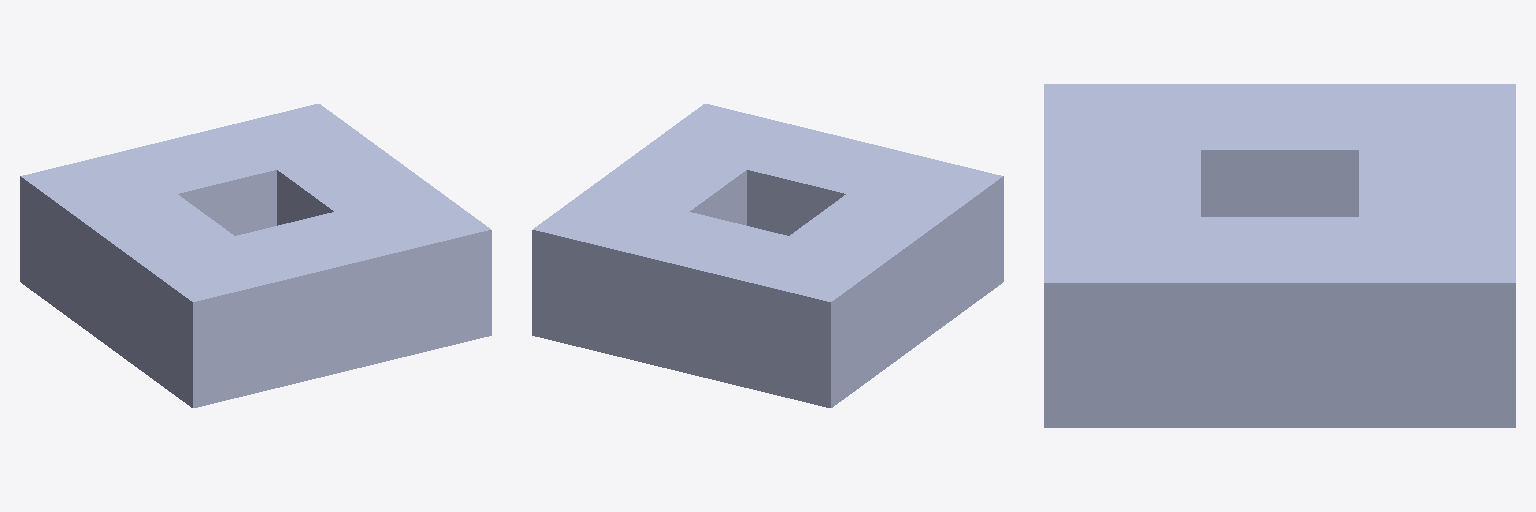
The robot description file, URDF, robot "hole.SLDPRT":
<?xml version="1.0" encoding="utf-8"?>
<!-- This URDF was automatically created by SolidWorks to URDF Exporter! Originally created by [author] ([email redacted]) 
     Commit Version: 1.5.1-0-g916b5db  Build Version: 1.5.7152.31018
     For more information, please see http://wiki.ros.org/sw_urdf_exporter -->
<robot
  name="hole.SLDPRT">
  <link
    name="hole1">
    <inertial>
      <origin
        xyz="-0.051 0.051 0.0"
        rpy="0 0 0" />
      <mass
        value="5.0" />
      <inertia
        ixx="0.003"
        ixy="0.0"
        ixz="0.0"
        iyy="0.003"
        iyz="0.0"
        izz="0.003" />
    </inertial>
    <visual>
      <origin
        xyz="-0.051 0.051 0"
        rpy="0 0 0" />
      <geometry>
        <box 
	  size="0.051 0.051 0.052" />
      </geometry>
      <material
        name="stainless">
        <color
          rgba="0.79216 0.81961 0.93333 1" />
      </material>
    </visual>
    <collision>
      <origin
        xyz="-0.051 0.051 0"
        rpy="0 0 0" />
      <geometry>
        <box 
	  size="0.051 0.051 0.052" />
      </geometry>
    </collision>
  <gazebo>
    <static>true</static>
  </gazebo>

  </link>
  
  <joint name="joint1" type="fixed">
    <origin xyz="0.0 0.0 0.0" rpy="0 0 0"/>
    <parent link="hole1"/>
    <child link="hole2"/>
  </joint>

  <link
    name="hole2">
    <inertial>
      <origin
        xyz="0.0 0.051 0.0"
        rpy="0 0 0" />
      <mass
        value="5.0" />
      <inertia
        ixx="0.003"
        ixy="0.0"
        ixz="0.0"
        iyy="0.003"
        iyz="0.0"
        izz="0.003" />
    </inertial>
    <visual>
      <origin
        xyz="0.0 0.051 0"
        rpy="0 0 0" />
      <geometry>
        <box 
	  size="0.051 0.051 0.052" />
      </geometry>
      <material
        name="stainless">
        <color
          rgba="0.79216 0.81961 0.93333 1" />
      </material>
    </visual>
    <collision>
      <origin
        xyz="0.0 0.051 0"
        rpy="0 0 0" />
      <geometry>
        <box 
	  size="0.051 0.051 0.052" />
      </geometry>
    </collision>
  <gazebo>
    <static>true</static>
  </gazebo>
  </link>

  <joint name="joint2" type="fixed">
    <origin xyz="0.0 0.0 0.0" rpy="0 0 0"/>
    <parent link="hole2"/>
    <child link="hole3"/>
  </joint>

  <link
    name="hole3">
    <inertial>
      <origin
        xyz="0.051 0.051 0.0"
        rpy="0 0 0" />
      <mass
        value="5.0" />
      <inertia
        ixx="0.003"
        ixy="0.0"
        ixz="0.0"
        iyy="0.003"
        iyz="0.0"
        izz="0.003" />
    </inertial>
    <visual>
      <origin
        xyz="0.051 0.051 0"
        rpy="0 0 0" />
      <geometry>
        <box 
	  size="0.051 0.051 0.052" />
      </geometry>
      <material
        name="stainless">
        <color
          rgba="0.79216 0.81961 0.93333 1" />
      </material>
    </visual>
    <collision>
      <origin
        xyz="0.051 0.051 0"
        rpy="0 0 0" />
      <geometry>
        <box 
	  size="0.051 0.051 0.052" />
      </geometry>
    </collision>
  <gazebo>
    <static>true</static>
  </gazebo>
  </link>

  <joint name="joint3" type="fixed">
    <origin xyz="0.0 0.0 0.0" rpy="0 0 0"/>
    <parent link="hole3"/>
    <child link="hole4"/>
  </joint>

  <link
    name="hole4">
    <inertial>
      <origin
        xyz="0.051 0.0 0.0"
        rpy="0 0 0" />
      <mass
        value="5.0" />
      <inertia
        ixx="0.003"
        ixy="0.0"
        ixz="0.0"
        iyy="0.003"
        iyz="0.0"
        izz="0.003" />
    </inertial>
    <visual>
      <origin
        xyz="0.051 0.0 0"
        rpy="0 0 0" />
      <geometry>
        <box 
	  size="0.051 0.051 0.052" />
      </geometry>
      <material
        name="stainless">
        <color
          rgba="0.79216 0.81961 0.93333 1" />
      </material>
    </visual>
    <collision>
      <origin
        xyz="0.051 0.0 0"
        rpy="0 0 0" />
      <geometry>
        <box 
	  size="0.051 0.051 0.052" />
      </geometry>
    </collision>
  <gazebo>
    <static>true</static>
  </gazebo>
  </link>

  <joint name="joint4" type="fixed">
    <origin xyz="0.0 0.0 0.0" rpy="0 0 0"/>
    <parent link="hole4"/>
    <child link="hole5"/>
  </joint>

  <link
    name="hole5">
    <inertial>
      <origin
        xyz="0.051 -0.051 0.0"
        rpy="0 0 0" />
      <mass
        value="5.0" />
      <inertia
        ixx="0.003"
        ixy="0.0"
        ixz="0.0"
        iyy="0.003"
        iyz="0.0"
        izz="0.003" />
    </inertial>
    <visual>
      <origin
        xyz="0.051 -0.051 0"
        rpy="0 0 0" />
      <geometry>
        <box 
	  size="0.051 0.051 0.052" />
      </geometry>
      <material
        name="stainless">
        <color
          rgba="0.79216 0.81961 0.93333 1" />
      </material>
    </visual>
    <collision>
      <origin
        xyz="0.051 -0.051 0"
        rpy="0 0 0" />
      <geometry>
        <box 
	  size="0.051 0.051 0.052" />
      </geometry>
    </collision>
  <gazebo>
    <static>true</static>
  </gazebo>
  </link>
  <joint name="joint5" type="fixed">
    <origin xyz="0.0  0.0 0.0" rpy="0 0 0"/>
    <parent link="hole5"/>
    <child link="hole6"/>
  </joint>

  <link
    name="hole6">
    <inertial>
      <origin
        xyz="0.0 -0.051 0.0"
        rpy="0 0 0" />
      <mass
        value="5.0" />
      <inertia
        ixx="0.003"
        ixy="0.0"
        ixz="0.0"
        iyy="0.003"
        iyz="0.0"
        izz="0.003" />
    </inertial>
    <visual>
      <origin
        xyz="0.0 -0.051 0"
        rpy="0 0 0" />
      <geometry>
        <box 
	  size="0.051 0.051 0.052" />
      </geometry>
      <material
        name="stainless">
        <color
          rgba="0.79216 0.81961 0.93333 1" />
      </material>
    </visual>
    <collision>
      <origin
        xyz="0.0 -0.051 0"
        rpy="0 0 0" />
      <geometry>
        <box 
	  size="0.051 0.051 0.052" />
      </geometry>
    </collision>
  <gazebo>
    <static>true</static>
  </gazebo>
  </link>

  <joint name="joint6" type="fixed">
    <origin xyz="0.0  0.0 0.0" rpy="0 0 0"/>
    <parent link="hole6"/>
    <child link="hole7"/>
  </joint>

  <link
    name="hole7">
    <inertial>
      <origin
        xyz="-0.051 -0.051 0.0"
        rpy="0 0 0" />
      <mass
        value="5.0" />
      <inertia
        ixx="0.003"
        ixy="0.0"
        ixz="0.0"
        iyy="0.003"
        iyz="0.0"
        izz="0.003" />
    </inertial>
    <visual>
      <origin
        xyz="-0.051 -0.051 0"
        rpy="0 0 0" />
      <geometry>
        <box 
	  size="0.051 0.051 0.052" />
      </geometry>
      <material
        name="stainless">
        <color
          rgba="0.79216 0.81961 0.93333 1" />
      </material>
    </visual>
    <collision>
      <origin
        xyz="-0.051 -0.051 0"
        rpy="0 0 0" />
      <geometry>
        <box 
	  size="0.051 0.051 0.052" />
      </geometry>
    </collision>
  <gazebo>
    <static>true</static>
  </gazebo>
  </link>

  <joint name="joint7" type="fixed">
    <origin xyz="0.0  0.0 0.0" rpy="0 0 0"/>
    <parent link="hole7"/>
    <child link="hole8"/>
  </joint>

  <link
    name="hole8">
    <inertial>
      <origin
        xyz="-0.051 0.0 0.0"
        rpy="0 0 0" />
      <mass
        value="5.0" />
      <inertia
        ixx="0.003"
        ixy="0.0"
        ixz="0.0"
        iyy="0.003"
        iyz="0.0"
        izz="0.003" />
    </inertial>
    <visual>
      <origin
        xyz="-0.051 0.0 0"
        rpy="0 0 0" />
      <geometry>
        <box 
	  size="0.051 0.051 0.052" />
      </geometry>
      <material
        name="stainless">
        <color
          rgba="0.79216 0.81961 0.93333 1" />
      </material>
    </visual>
    <collision>
      <origin
        xyz="-0.051 0.0 0"
        rpy="0 0 0" />
      <geometry>
        <box 
	  size="0.051 0.051 0.052" />
      </geometry>
    </collision>
  <gazebo>
    <static>true</static>
  </gazebo>
  </link>

</robot>

--- What the picture shows (computed from the rendered views, not written in the file) ---
The picture shows the robot from 3 angles, left to right: view 1: azimuth 30°, elevation 25°; view 2: azimuth 150°, elevation 25°; view 3: azimuth 270°, elevation 25°; orthographic projection.
Model hole.SLDPRT with 8 links and 7 joints (7 fixed), rooted at hole1, posed all joints at 0.
Visible links, largest first — view 1: hole7, hole6, hole5, hole1, hole8, hole2, hole4, hole3; view 2: hole1, hole2, hole3, hole7, hole8, hole6, hole4, hole5; view 3: hole4, hole3, hole5, hole8, hole2, hole6, hole1, hole7.
Boxes of the visible links, x1,y1,x2,y2 form: hole7: (135,236,291,407); hole6: (236,212,391,383); hole5: (335,188,491,359); hole1: (20,152,176,323); hole8: (78,194,233,365); hole2: (121,128,276,235); hole4: (277,145,433,225); hole3: (220,104,375,169); hole1: (732,236,888,407); hole2: (632,212,787,383); hole3: (532,188,688,359); hole7: (847,152,1003,323); hole8: (790,194,945,365); hole6: (747,128,902,235); hole4: (590,145,746,225); hole5: (648,104,803,169); hole4: (1201,217,1358,427); hole3: (1359,217,1515,427); hole5: (1044,217,1200,427); hole8: (1201,84,1358,216); hole2: (1359,150,1515,216); hole6: (1044,150,1200,216); hole1: (1359,84,1515,149); hole7: (1044,84,1200,149).
Bounding box of the posed robot: 0.153 × 0.153 × 0.052 m (x, y, z).
Geometry: primitives only (box / cylinder / sphere), no mesh files.